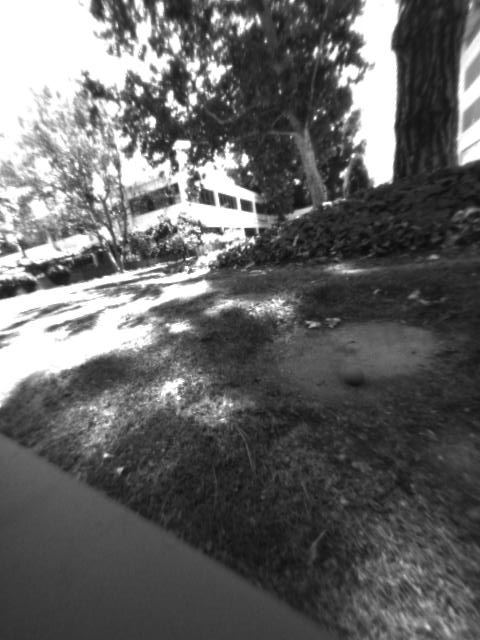dogtoy: (327, 351, 379, 396)
